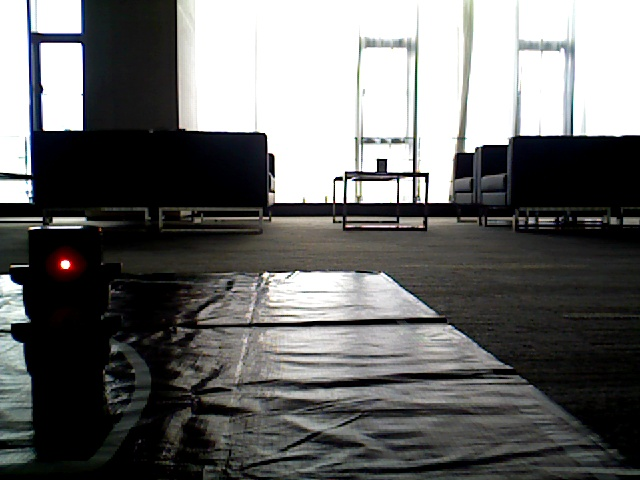red: (23, 231, 105, 387)
